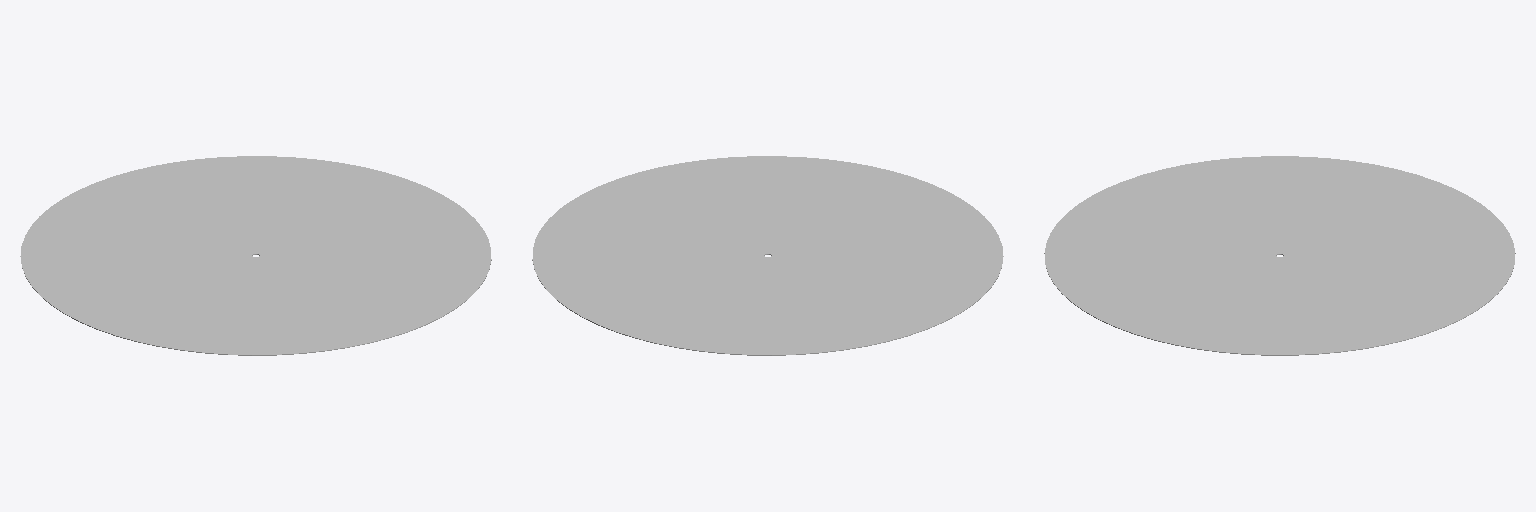
robot.urdf — case_sig_ring:
<?xml version="0.0" ?>
<robot name="case_sig_ring">

  <link name="world"/>

  <link name="case_sig_ring_link">
    <inertial>
      <mass value="0.8"/>
      <inertia ixx="0.1" ixy="0.0" ixz="0.0" iyy="0.1" iyz="0.0" izz="0.1"/>
    </inertial>

    <visual>
      <origin rpy="0 0 0" xyz="0 0 0"/>
      <geometry>
        <mesh filename="case_sig_ring.STL" scale="0.01 0.01 0.001"/>
      </geometry>
      <material name="sig">
        <color rgba="0.8 0.8 0.8 1"/>
      </material>
    </visual>

    <collision>
      <origin rpy="0 0 0" xyz="0 0 0"/>
      <geometry>
	 	    <mesh filename="case_sig_ring.stl"/>
      </geometry>
    </collision>
  </link>


  <joint name="connect_root_and_world" type="fixed">
    <child link="case_sig_ring_link"/>
    <parent link="world"/>
    <origin rpy="0 0 0" xyz="0 0 0"/>
  </joint>

</robot>

--- Facts derived from the render (not from the file) ---
The picture shows the robot from 3 angles, left to right: view 1: azimuth 30°, elevation 25°; view 2: azimuth 150°, elevation 25°; view 3: azimuth 270°, elevation 25°; orthographic projection.
Robot: case_sig_ring — 2 links, 1 joints (1 fixed); root link world; default pose: all joints at 0.
Links seen in each view (by area): view 1: case_sig_ring_link; view 2: case_sig_ring_link; view 3: case_sig_ring_link.
Link boxes in pixels (box(x1,y1,x2,y2)): case_sig_ring_link: box(20, 156, 491, 355); case_sig_ring_link: box(532, 156, 1003, 355); case_sig_ring_link: box(1044, 156, 1515, 355).
Size in the robot's own frame: 0.6 by 0.5998 by 0.001 metres.
Meshes: 1 distinct files referenced, 1 mesh visuals loaded (1 binary STL).
